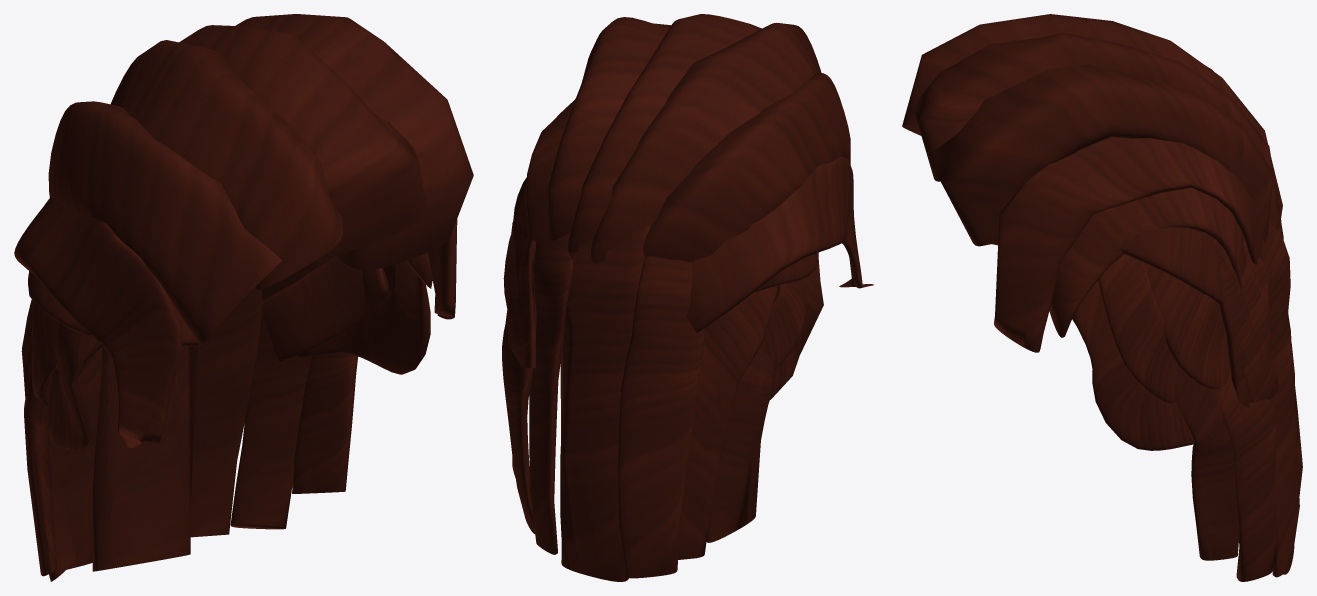
File: Character01_Hair.fbx
3 renders of one model, left to right at view 1: azimuth 30°, elevation 25°; view 2: azimuth 150°, elevation 25°; view 3: azimuth 270°, elevation 25°, orthographic. The views are drawn at different scales.
Parts seen in each view (by area): view 1: Hair14, Hair18, Hair19, Hair23, Hair7, Hair28, Hair11, Hair13, Hair12, Hair8, Hair9, Hair27 (+6 smaller); view 2: Hair28, Hair27, Hair14, Hair18, Hair23, Hair22, Hair7, Hair19, Hair11, Hair15, Hair21, Hair13 (+4 smaller); view 3: Hair7, Hair17, Hair19, Hair16, Hair13, Hair18, Hair9, Hair12, Hair11, Hair8, Hair21, Hair20 (+1 smaller).
Boxes of the visible parts, left/top/right/bottom form: Hair14: left=48, top=101, right=281, bottom=345; Hair18: left=111, top=40, right=343, bottom=289; Hair19: left=179, top=25, right=427, bottom=259; Hair23: left=14, top=196, right=182, bottom=447; Hair7: left=235, top=14, right=473, bottom=269; Hair28: left=92, top=346, right=197, bottom=571; Hair11: left=190, top=288, right=262, bottom=537; Hair13: left=230, top=256, right=335, bottom=529; Hair12: left=292, top=268, right=388, bottom=493; Hair8: left=261, top=256, right=395, bottom=361; Hair9: left=297, top=261, right=430, bottom=374; Hair27: left=61, top=347, right=101, bottom=569; Hair28: left=560, top=225, right=650, bottom=581; Hair27: left=618, top=256, right=704, bottom=578; Hair14: left=643, top=73, right=850, bottom=262; Hair18: left=591, top=23, right=821, bottom=263; Hair23: left=686, top=156, right=873, bottom=333; Hair22: left=678, top=285, right=777, bottom=559; Hair7: left=547, top=17, right=670, bottom=240; Hair19: left=567, top=14, right=761, bottom=252; Hair11: left=529, top=233, right=572, bottom=554; Hair15: left=706, top=347, right=774, bottom=542; Hair21: left=506, top=201, right=536, bottom=368; Hair13: left=502, top=316, right=534, bottom=533; Hair7: left=933, top=64, right=1273, bottom=246; Hair17: left=994, top=137, right=1262, bottom=352; Hair19: left=914, top=32, right=1280, bottom=229; Hair16: left=1049, top=187, right=1246, bottom=337; Hair13: left=1217, top=366, right=1277, bottom=581; Hair18: left=902, top=14, right=1282, bottom=217; Hair9: left=1072, top=280, right=1194, bottom=450; Hair12: left=1177, top=369, right=1239, bottom=560; Hair11: left=1261, top=221, right=1299, bottom=577; Hair8: left=1098, top=254, right=1180, bottom=403; Hair21: left=1206, top=234, right=1279, bottom=407; Hair20: left=1145, top=263, right=1229, bottom=389.
Bounding box in the file's own units: 34.35 × 54.75 × 37.62.
